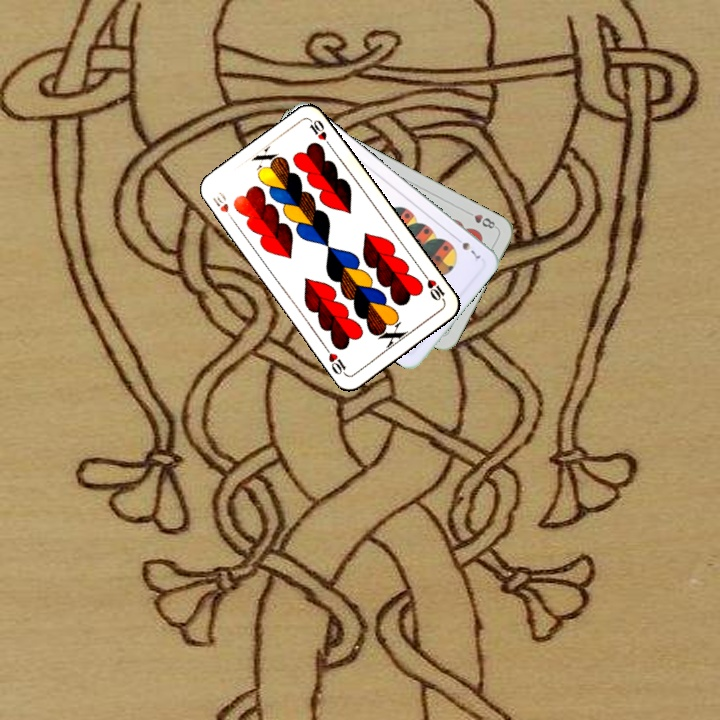H10: (419, 269, 448, 305), (208, 188, 237, 224)
H8: (462, 207, 500, 232)
S7: (450, 232, 483, 261)
